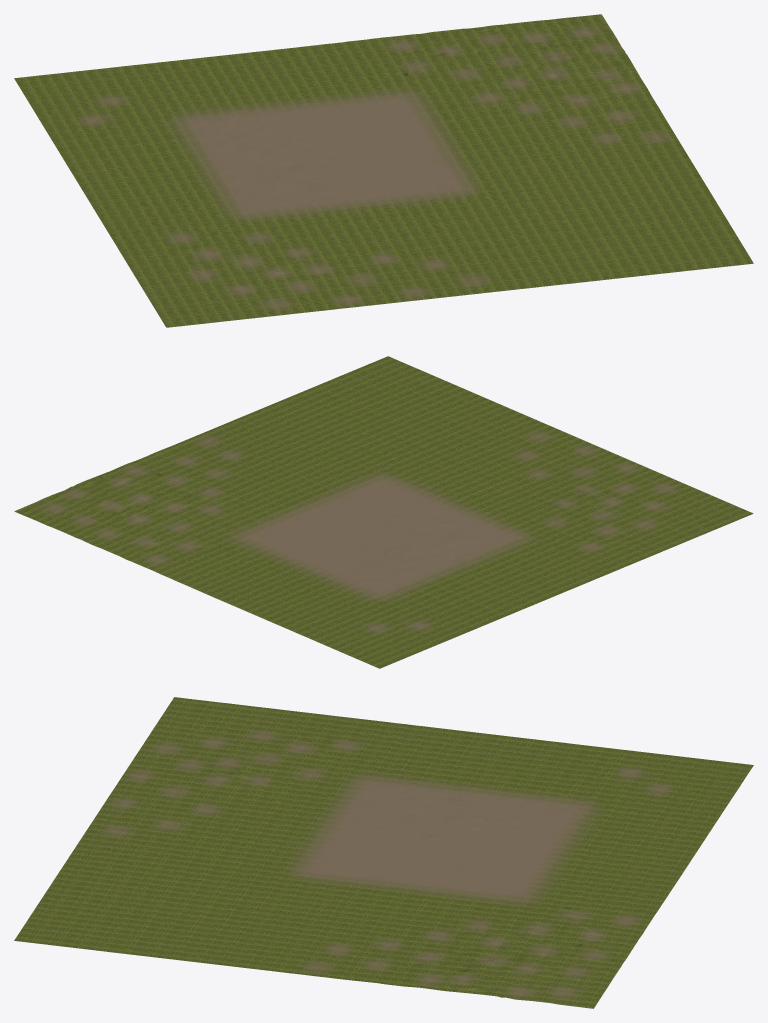
The model's file is Lesson01_Floor_v003.glb.
The picture shows the model from 3 angles, top to bottom: view 1: azimuth 30°, elevation 25°; view 2: azimuth 150°, elevation 25°; view 3: azimuth 270°, elevation 25°; orthographic projection. The views are drawn at different scales.
Visible parts, largest first — view 1: Floor; view 2: Floor; view 3: Floor.
Boxes of the visible parts, bbox=[...] form: Floor: bbox=[14, 14, 753, 327]; Floor: bbox=[14, 356, 753, 668]; Floor: bbox=[14, 697, 753, 1008].
Bounding box in the file's own units: 236 × 0.9957 × 236.
1 material, 1 textured.
